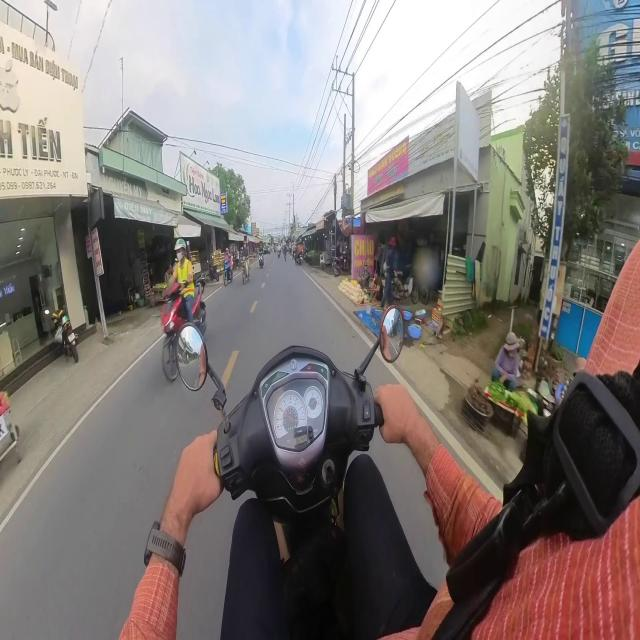motorcycle: (177, 306, 403, 638), (161, 283, 186, 381), (52, 308, 79, 363), (392, 269, 418, 304), (333, 254, 351, 276), (208, 261, 219, 282), (223, 265, 232, 286), (259, 254, 263, 268), (278, 249, 280, 257)
